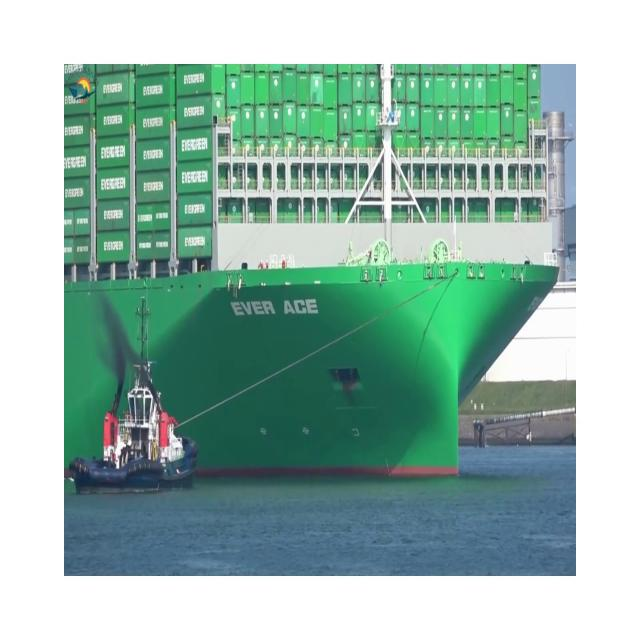OCR: (218, 276, 327, 331)
